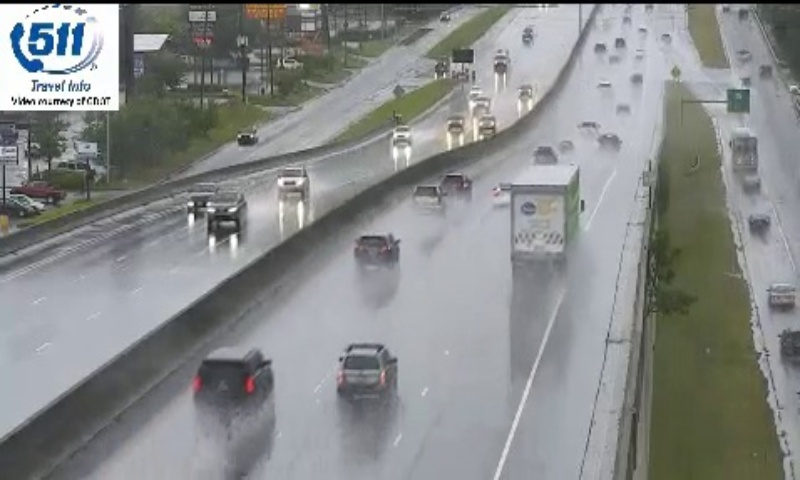car: (194, 348, 274, 409), (336, 344, 396, 400), (354, 232, 400, 270), (438, 171, 471, 201), (411, 182, 441, 211), (490, 182, 513, 205), (532, 144, 557, 163)
small-truck: (508, 165, 579, 270)
